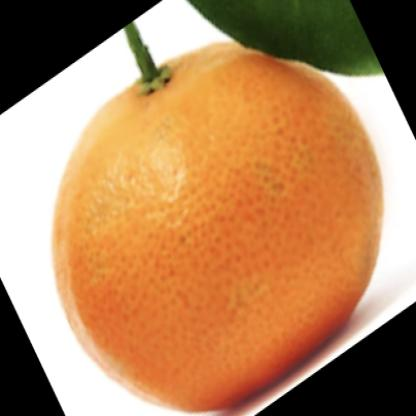fresh: (54, 37, 382, 416)
